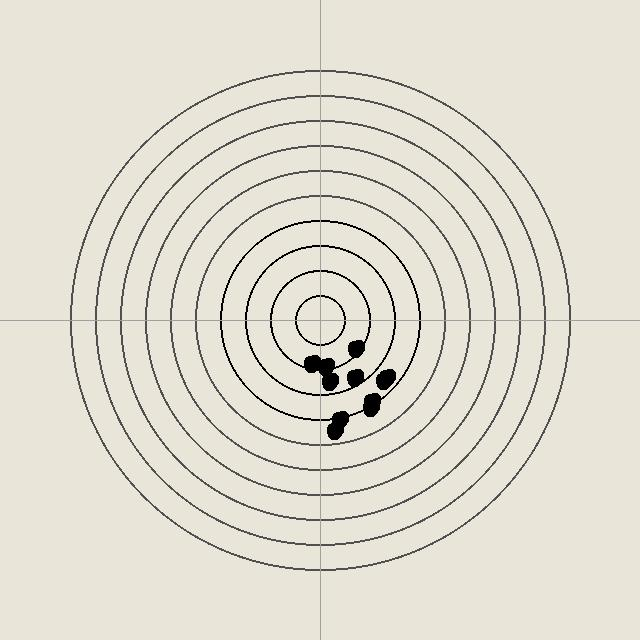good_group: (361, 391, 381, 411), (319, 371, 339, 391), (373, 370, 393, 390), (329, 409, 349, 429), (376, 367, 396, 387), (324, 420, 344, 440), (360, 397, 380, 417), (344, 367, 364, 387), (345, 338, 365, 358), (315, 356, 335, 376), (301, 353, 321, 373)
